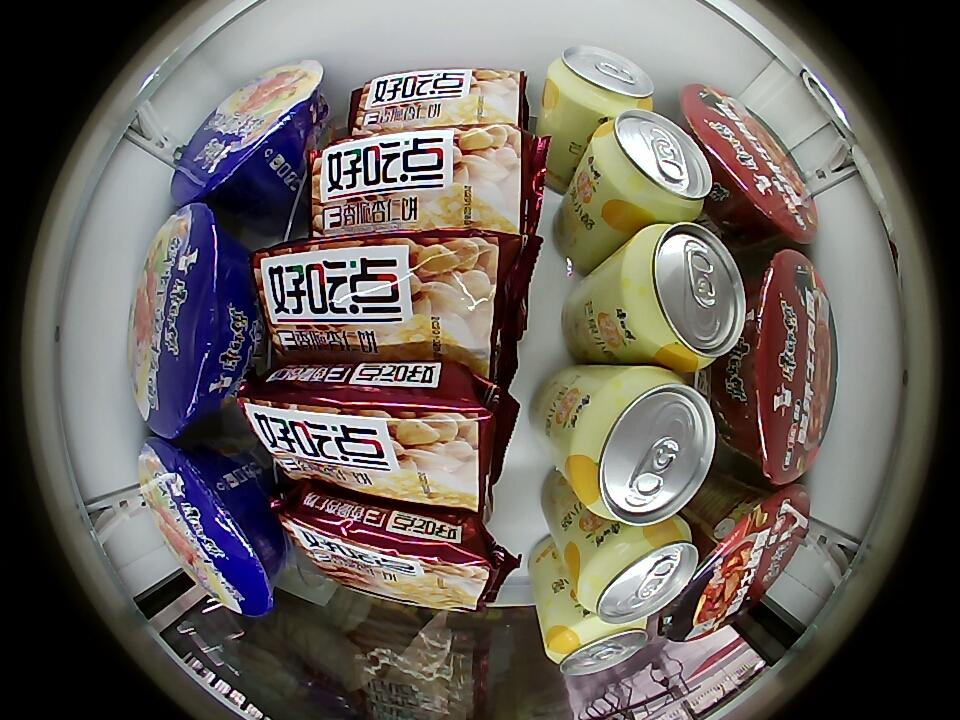haochidian: (250, 237, 530, 374), (238, 372, 517, 508), (275, 491, 507, 605), (306, 125, 539, 237), (344, 68, 529, 132)
mangguoxiaolao: (568, 368, 717, 526), (619, 221, 748, 369), (590, 109, 714, 221), (576, 520, 698, 624), (547, 45, 655, 115), (544, 614, 649, 678)
suanlaniurou: (724, 250, 836, 483), (682, 84, 818, 244), (673, 487, 809, 641)
xianxiayuban: (130, 205, 252, 438), (137, 436, 279, 617), (169, 60, 321, 207)
